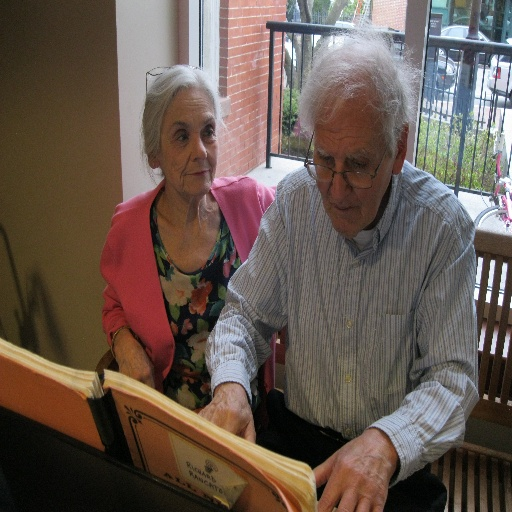hand: (315, 422, 410, 509), (197, 384, 256, 442), (115, 337, 156, 393)
